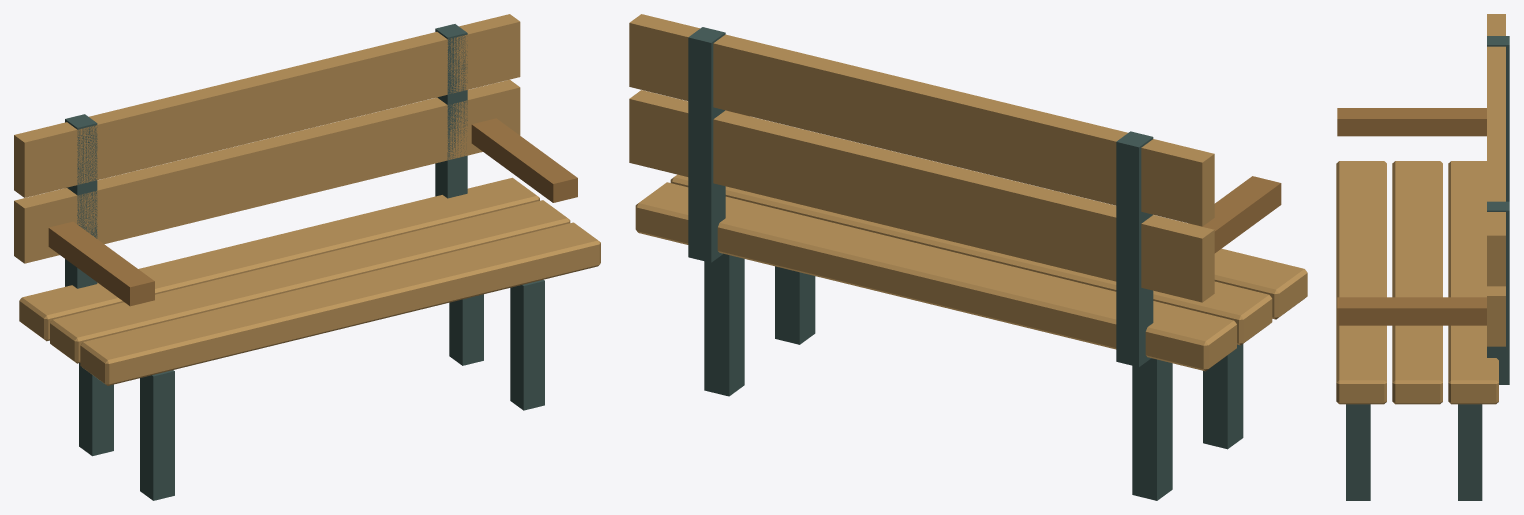
The model's file is alc_bench.glb.
The picture shows the model from 3 angles, left to right: view 1: azimuth 30°, elevation 25°; view 2: azimuth 150°, elevation 25°; view 3: azimuth 270°, elevation 25°; orthographic projection. The views are drawn at different scales.
Parts seen in each view (by area): view 1: alc_bench; view 2: alc_bench; view 3: alc_bench.
Part boxes in pixels (x1,y1,x2,y2): alc_bench: (14,14,600,500); alc_bench: (629,14,1307,500); alc_bench: (1336,14,1509,500).
Size of the model in its own units: 1.5 by 0.915 by 0.495.
